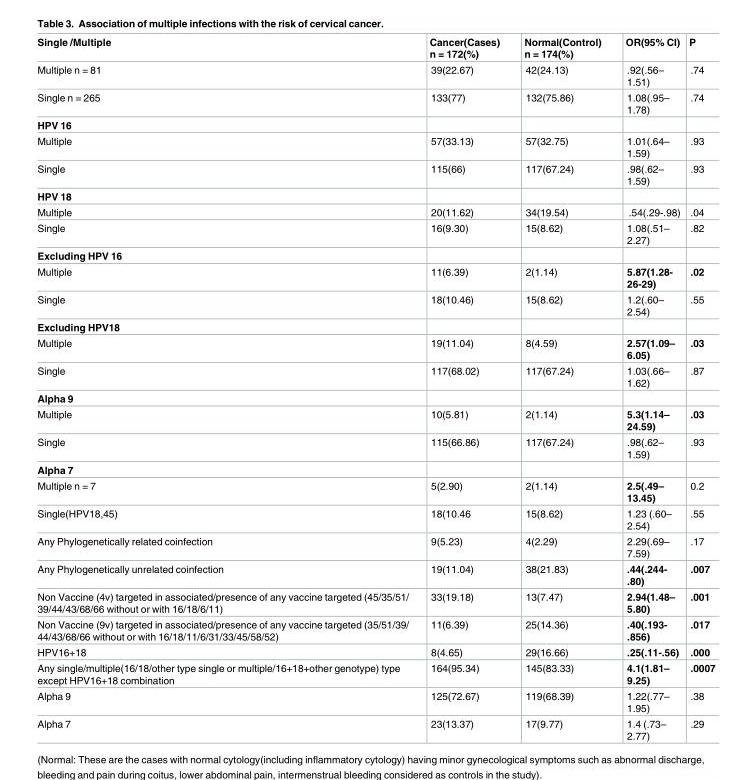table: (36, 37, 714, 740)
table column: (36, 37, 418, 740), (511, 37, 612, 740), (418, 37, 511, 740), (612, 37, 683, 740), (683, 37, 714, 740)
table column header: (36, 37, 714, 61)
table projected row header: (36, 117, 714, 133), (36, 188, 714, 204), (36, 319, 714, 335), (36, 390, 714, 406), (36, 462, 714, 478), (36, 248, 714, 263)
table row: (36, 61, 714, 89), (36, 89, 714, 117), (36, 133, 714, 161), (36, 220, 714, 248), (36, 263, 714, 291), (36, 291, 714, 319), (36, 335, 714, 363), (36, 406, 714, 434), (36, 434, 714, 462), (36, 505, 714, 533), (36, 533, 714, 561), (36, 561, 714, 589), (36, 616, 714, 644), (36, 660, 714, 688), (36, 688, 714, 716), (36, 161, 714, 188), (36, 363, 714, 390), (36, 478, 714, 505), (36, 589, 714, 616), (36, 37, 714, 61), (36, 716, 714, 740), (36, 117, 714, 133), (36, 188, 714, 204), (36, 204, 714, 220), (36, 319, 714, 335), (36, 390, 714, 406), (36, 462, 714, 478), (36, 644, 714, 660), (36, 248, 714, 263)
